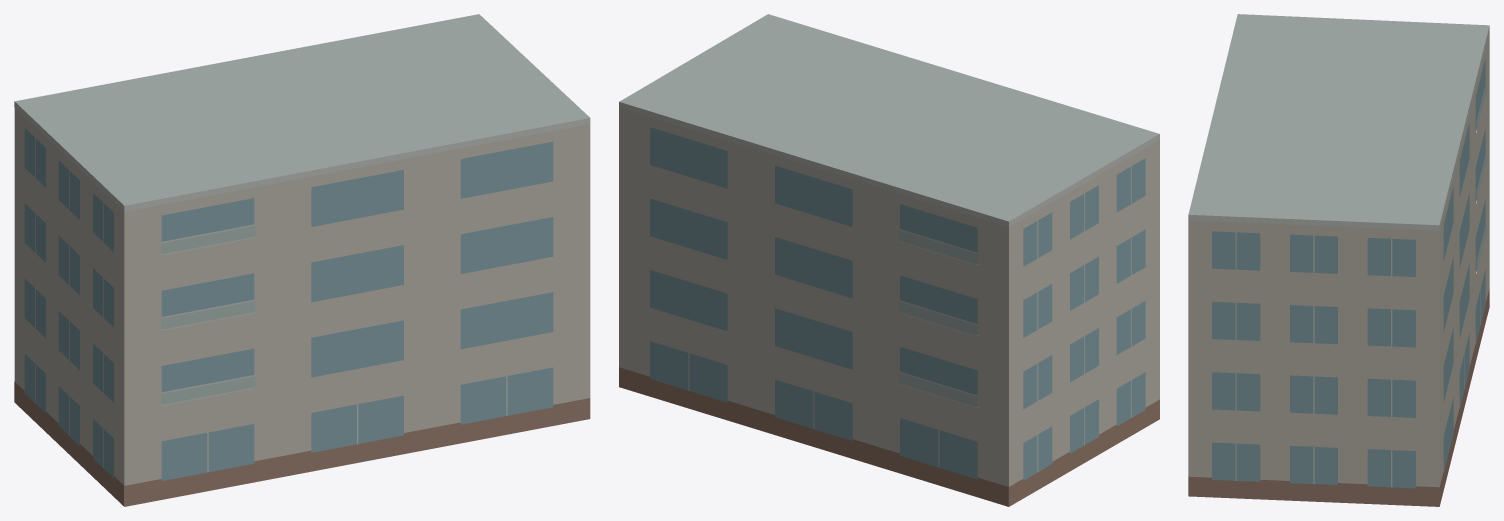
File: survey-upis-32969560.glb
The picture shows the model from 3 angles, left to right: view 1: azimuth 30°, elevation 25°; view 2: azimuth 150°, elevation 25°; view 3: azimuth 270°, elevation 25°; orthographic projection. The views are drawn at different scales.
Parts seen in each view (by area): view 1: survey-upis-32969560.tmp; view 2: survey-upis-32969560.tmp; view 3: survey-upis-32969560.tmp.
Boxes of the visible parts, x1,y1,x2,y2 form: survey-upis-32969560.tmp: (14,14,590,506); survey-upis-32969560.tmp: (619,14,1159,506); survey-upis-32969560.tmp: (1188,14,1489,506).
Bounding box in the file's own units: 19.63 × 12.2 × 11.83.
